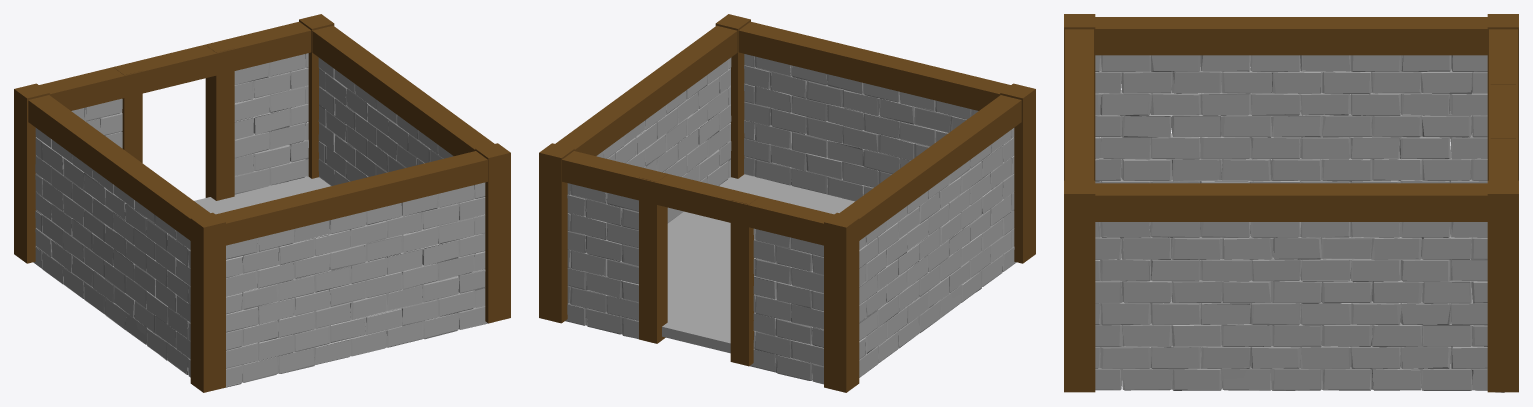
File: House1.fbx
The picture shows the model from 3 angles, left to right: view 1: azimuth 30°, elevation 25°; view 2: azimuth 150°, elevation 25°; view 3: azimuth 270°, elevation 25°; orthographic projection. The views are drawn at different scales.
Visible parts, largest first — view 1: Cube.011, Cube.020, Cube.012, Cube.008, Cube.007, Cube.009, Cube.010, Cube.003, Cube.004, Cube.006, Cube.001, Cube (+3 smaller); view 2: Cube.020, Cube.011, Cube, Cube.012, Cube.013, Cube.008, Cube.007, Cube.009, Cube.010, Cube.001, Cube.002, Cube.006 (+3 smaller); view 3: Cube.020, Cube.009, Cube.010, Cube.002, Cube.004, Cube.008, Cube.007, Cube, Cube.001, Cube.003.
Boxes of the visible parts, box(x1,y1,x2,y2) form: Cube.011: box(223, 182, 488, 388); Cube.020: box(33, 57, 453, 377); Cube.012: box(234, 53, 308, 194); Cube.008: box(216, 151, 487, 245); Cube.007: box(39, 22, 311, 110); Cube.009: box(28, 95, 210, 240); Cube.010: box(312, 25, 494, 155); Cube.003: box(190, 212, 225, 392); Cube.004: box(475, 143, 510, 323); Cube.006: box(205, 40, 234, 200); Cube.001: box(14, 83, 49, 263); Cube: box(35, 176, 330, 367); Cube.020: box(596, 57, 1016, 377); Cube.011: box(744, 54, 978, 201); Cube: box(568, 174, 1013, 372); Cube.012: box(565, 183, 657, 343); Cube.013: box(749, 228, 823, 384); Cube.008: box(738, 22, 1010, 110); Cube.007: box(562, 151, 833, 245); Cube.009: box(839, 95, 1021, 240); Cube.010: box(555, 25, 737, 155); Cube.001: box(824, 212, 859, 392); Cube.002: box(539, 143, 574, 323); Cube.006: box(639, 170, 667, 343); Cube.020: box(1095, 55, 1487, 390); Cube.009: box(1095, 17, 1487, 55); Cube.010: box(1095, 183, 1487, 221); Cube.002: box(1487, 180, 1518, 392); Cube.004: box(1064, 180, 1095, 392); Cube.008: box(1065, 29, 1093, 180); Cube.007: box(1489, 29, 1517, 180); Cube: box(1095, 222, 1487, 380); Cube.001: box(1487, 14, 1518, 180); Cube.003: box(1064, 14, 1095, 180).
Size of the model in its own units: 286 by 150 by 305.
